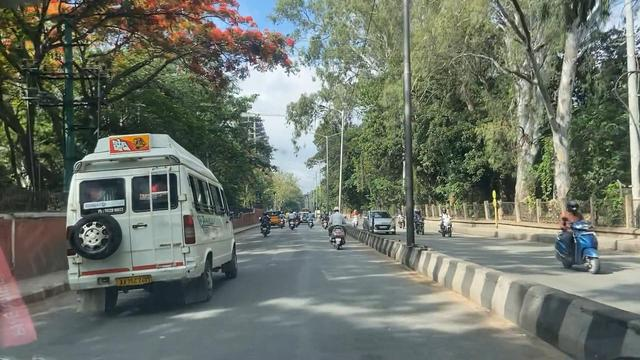HMV: (73, 158, 205, 289)
LMV: (327, 205, 346, 247), (257, 210, 272, 237), (291, 213, 298, 231)
